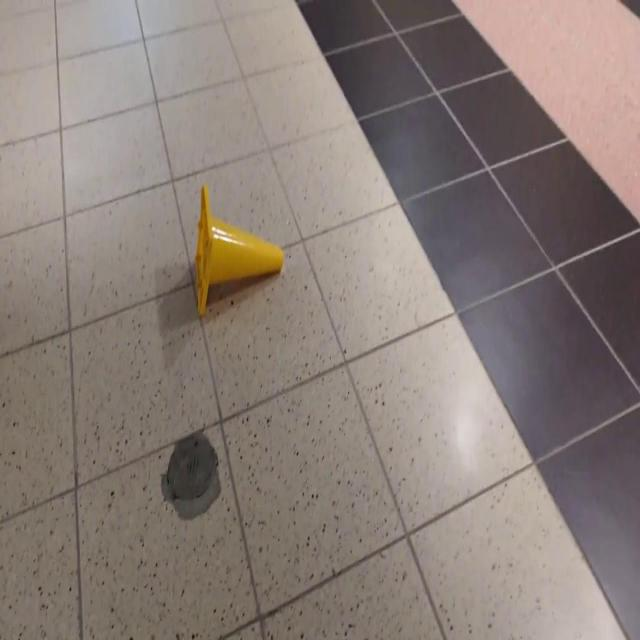frc_cone: (194, 185, 284, 320)
